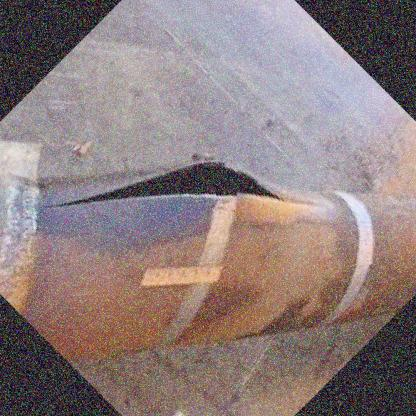burst: (51, 173, 327, 219)
